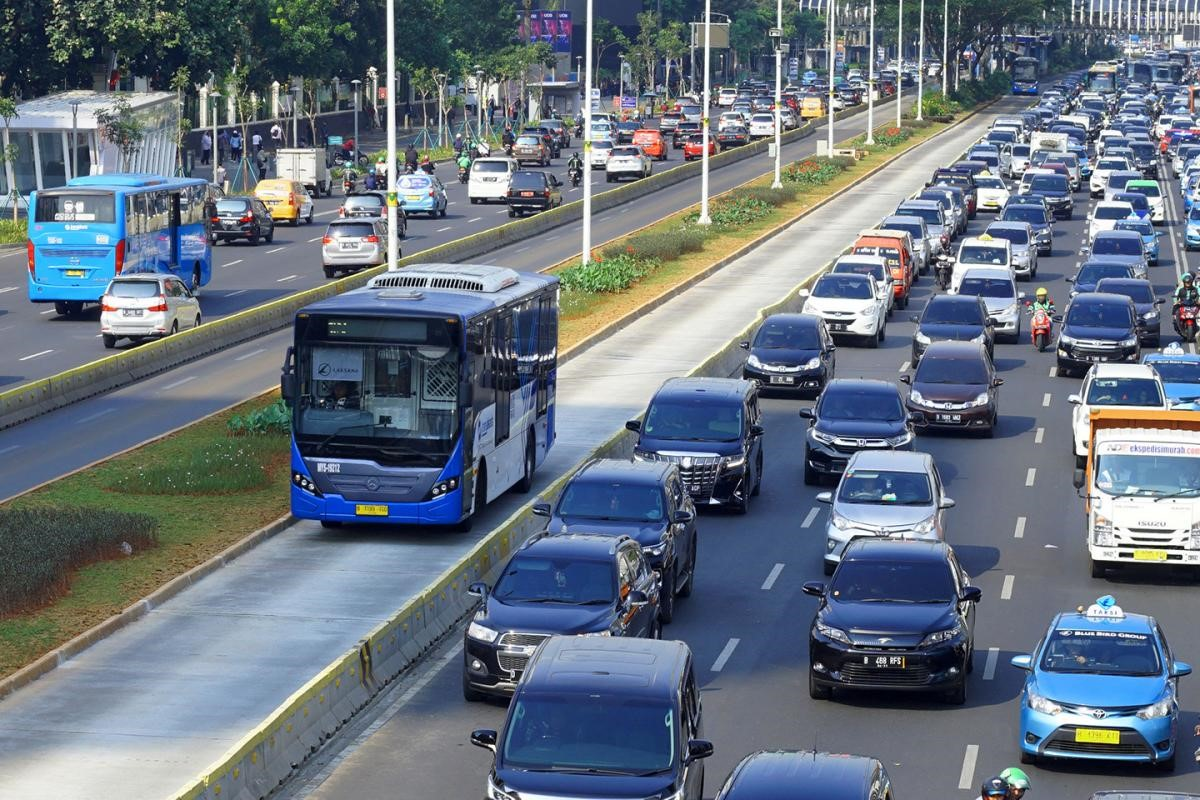HeavyVehicle: (281, 256, 568, 528), (1080, 406, 1200, 582)
LightVehicle: (807, 539, 976, 706), (1018, 607, 1189, 760), (97, 276, 206, 348)
MotorCycle: (1025, 304, 1054, 355), (569, 163, 582, 189)
